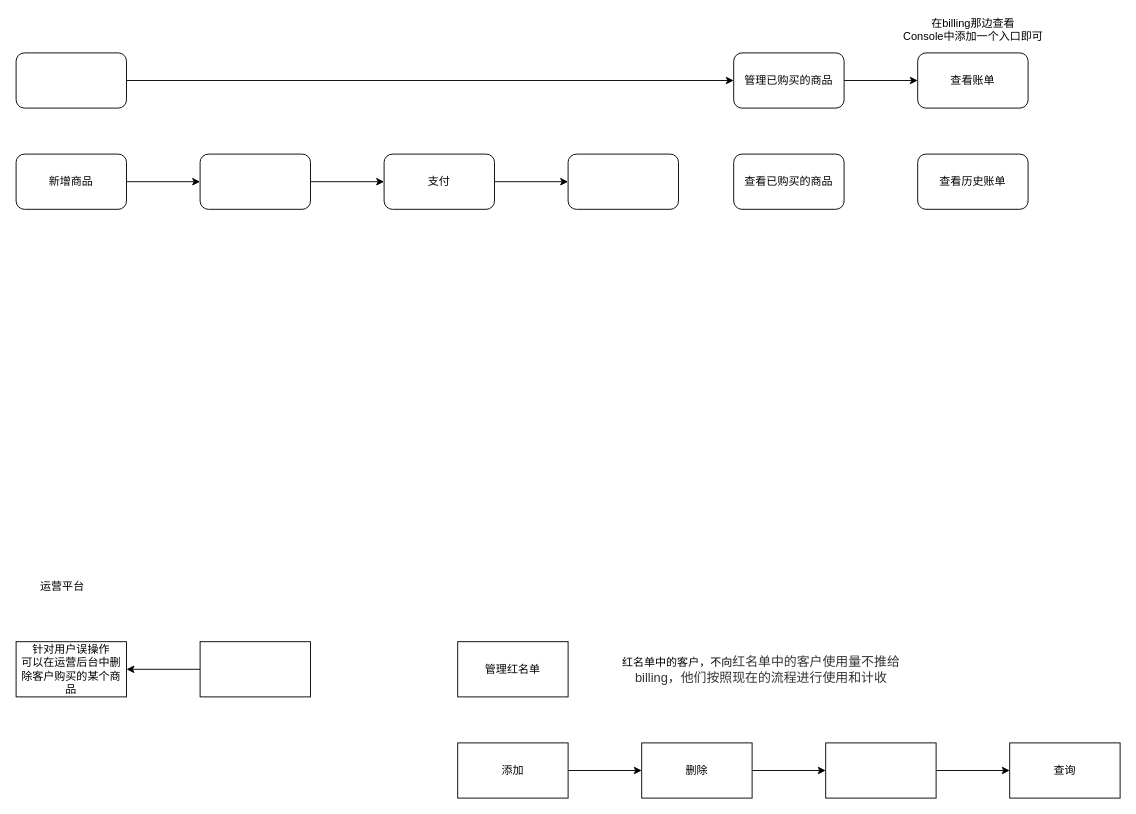
The diagram is 1136 pixels wide and 814 high, and some of its shapes have lost their labels. Here are the shapes that lost their labels. From the top down, the centre of each, then its label:
At (x=70, y=80): "购买商品".
At (x=254, y=181): "选择商品".
At (x=622, y=181): "完成下单".
At (x=254, y=669): "暂时不添加此功能".
At (x=880, y=770): "修改".
